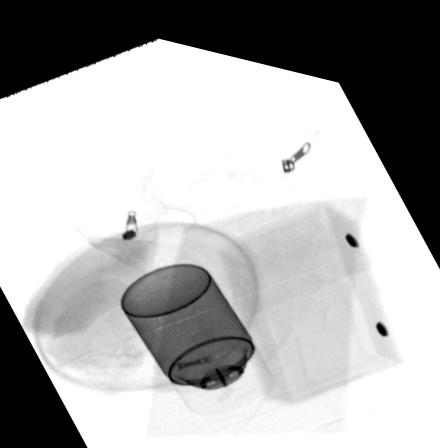Sprayer: (117, 250, 277, 405)
